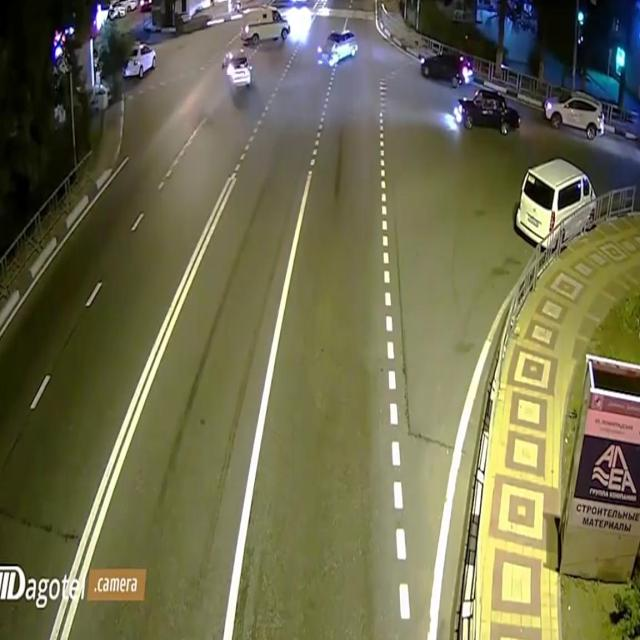accident: (313, 16, 363, 82), (221, 36, 257, 105)
